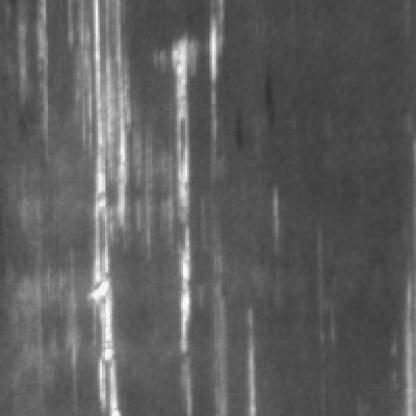scratches: (69, 6, 127, 416), (158, 30, 222, 360)
